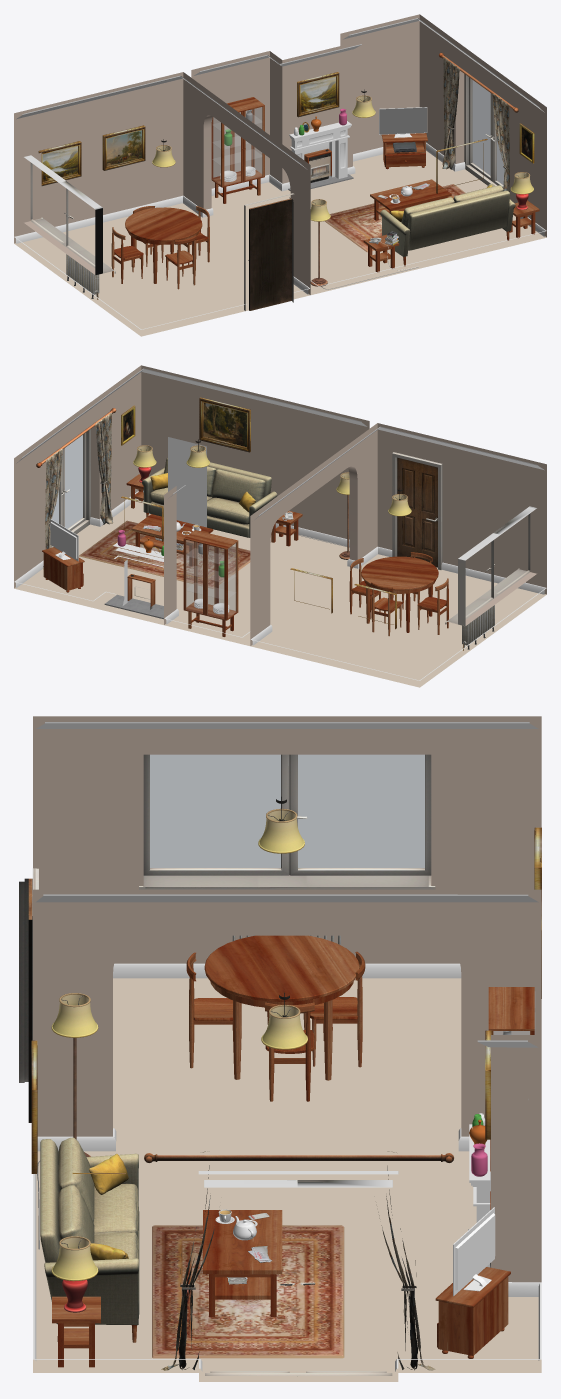
The model's file is Environment_Traditional.gltf.
3 renders of one model, top to bottom at view 1: azimuth 30°, elevation 25°; view 2: azimuth 150°, elevation 25°; view 3: azimuth 270°, elevation 25°, orthographic. The views are drawn at different scales.
Parts seen in each view (by area): view 1: Walls, WoodFurniture, WindowsDoorFireplaceStone, ENV3_Sofa_LO, pictures, CurtainsLamp, CabinetGlass, WindowGlass, PersianRug, TVStand, Vase, Radiator (+1 smaller); view 2: Walls, WoodFurniture, WindowsDoorFireplaceStone, CurtainsLamp, ENV3_Sofa_LO, pictures, PersianRug, CabinetGlass, Julie, WindowGlass, TVStand, Radiator (+2 smaller); view 3: Walls, WoodFurniture, WindowGlass, PersianRug, WindowsDoorFireplaceStone, CurtainsLamp, ENV3_Sofa_LO, TVStand, pictures, Vase, Soderhamn_Pillows007.
Boxes of the visible parts, x1,y1,x2,y2 form: Walls: [14, 14, 546, 336]; WoodFurniture: [111, 97, 539, 289]; WindowsDoorFireplaceStone: [24, 74, 503, 310]; ENV3_Sofa_LO: [380, 183, 515, 266]; pictures: [38, 72, 534, 193]; CurtainsLamp: [152, 52, 533, 289]; CabinetGlass: [212, 107, 262, 185]; WindowGlass: [472, 80, 504, 184]; PersianRug: [324, 184, 465, 252]; TVStand: [379, 107, 427, 152]; Vase: [220, 108, 412, 196]; Radiator: [66, 254, 99, 299]; Walls: [14, 365, 546, 687]; WoodFurniture: [42, 474, 448, 636]; WindowsDoorFireplaceStone: [52, 429, 536, 626]; CurtainsLamp: [36, 408, 411, 569]; ENV3_Sofa_LO: [142, 458, 277, 537]; pictures: [121, 397, 396, 629]; PersianRug: [79, 520, 250, 588]; CabinetGlass: [186, 540, 235, 618]; Julie: [168, 437, 206, 527]; WindowGlass: [52, 435, 82, 528]; TVStand: [50, 519, 78, 561]; Radiator: [462, 605, 494, 650]; Walls: [33, 716, 541, 1381]; WoodFurniture: [52, 935, 534, 1367]; WindowGlass: [150, 754, 424, 867]; PersianRug: [152, 1225, 344, 1358]; WindowsDoorFireplaceStone: [19, 754, 468, 1375]; CurtainsLamp: [37, 796, 453, 1370]; ENV3_Sofa_LO: [40, 1137, 139, 1342]; TVStand: [453, 1207, 495, 1296]; pictures: [31, 827, 541, 1173]; Vase: [233, 1031, 511, 1240]; Soderhamn_Pillows007: [89, 1153, 128, 1194].
Bounding box in the file's own units: 9.26 × 2.68 × 4.73.
45 materials, 44 textured.
